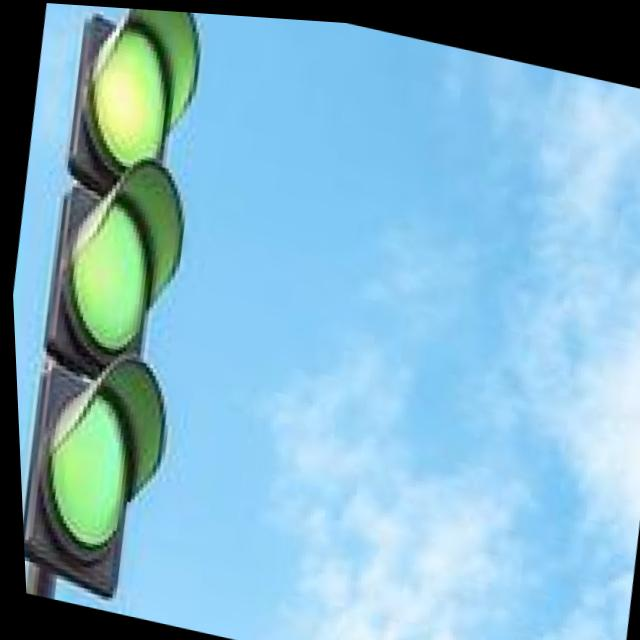green_light: (12, 343, 240, 607), (19, 1, 277, 219), (5, 146, 222, 387)
